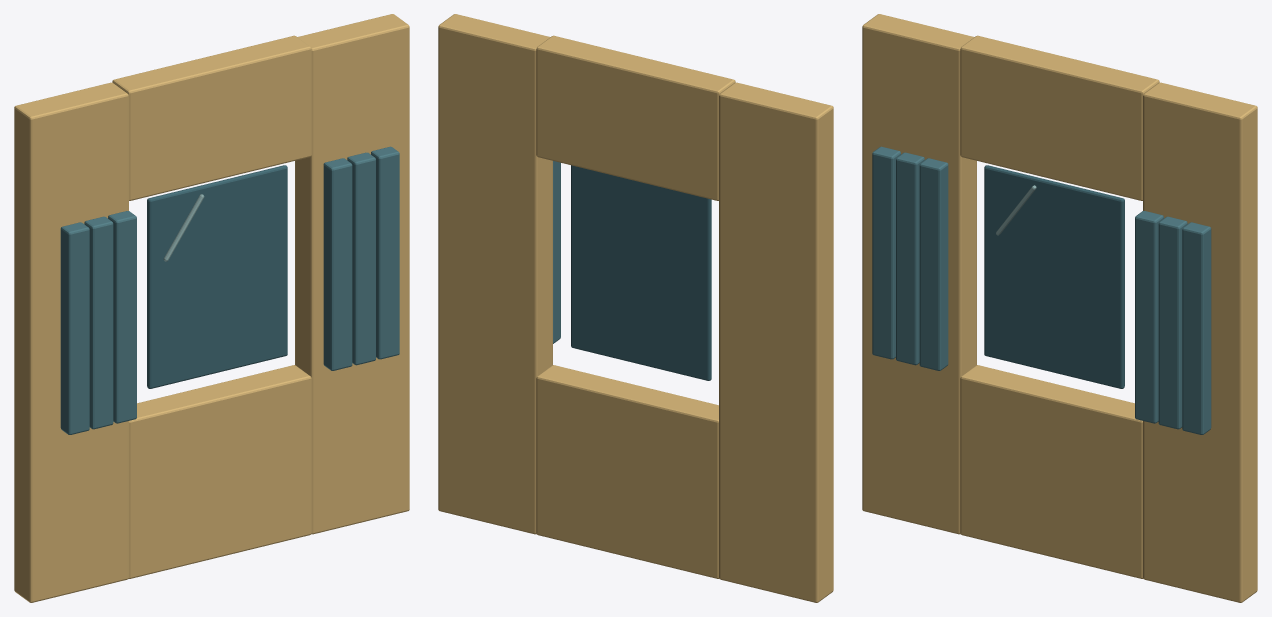
The model's file is wall_window_2m__finish.glb.
3 views of the same model, side by side, from view 1: azimuth 30°, elevation 25°; view 2: azimuth 150°, elevation 25°; view 3: azimuth 330°, elevation 25° (orthographic).
Visible parts, largest first — view 1: wall_window_2m__finish__mesh_00; view 2: wall_window_2m__finish__mesh_00; view 3: wall_window_2m__finish__mesh_00.
Part boxes in pixels (box(x1,y1,x2,y2)): wall_window_2m__finish__mesh_00: box(14, 14, 409, 602); wall_window_2m__finish__mesh_00: box(438, 14, 833, 602); wall_window_2m__finish__mesh_00: box(862, 14, 1257, 602).
Bounding box in the file's own units: 1.8 × 2.21 × 0.2575.
